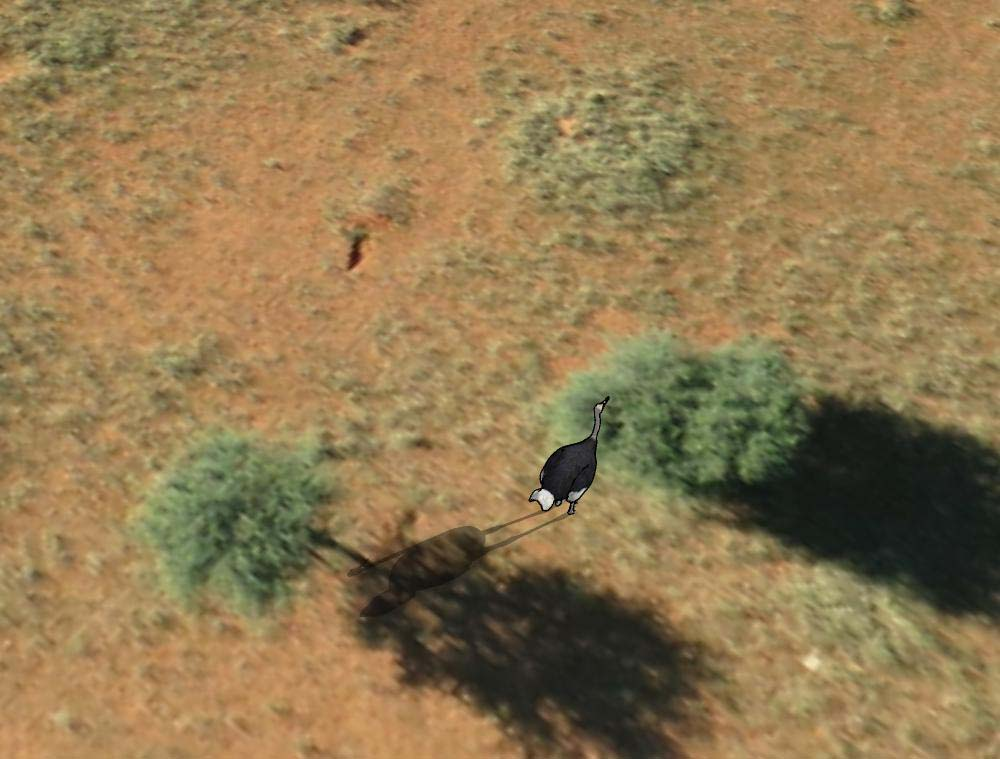ostrich: (531, 395, 613, 518)
